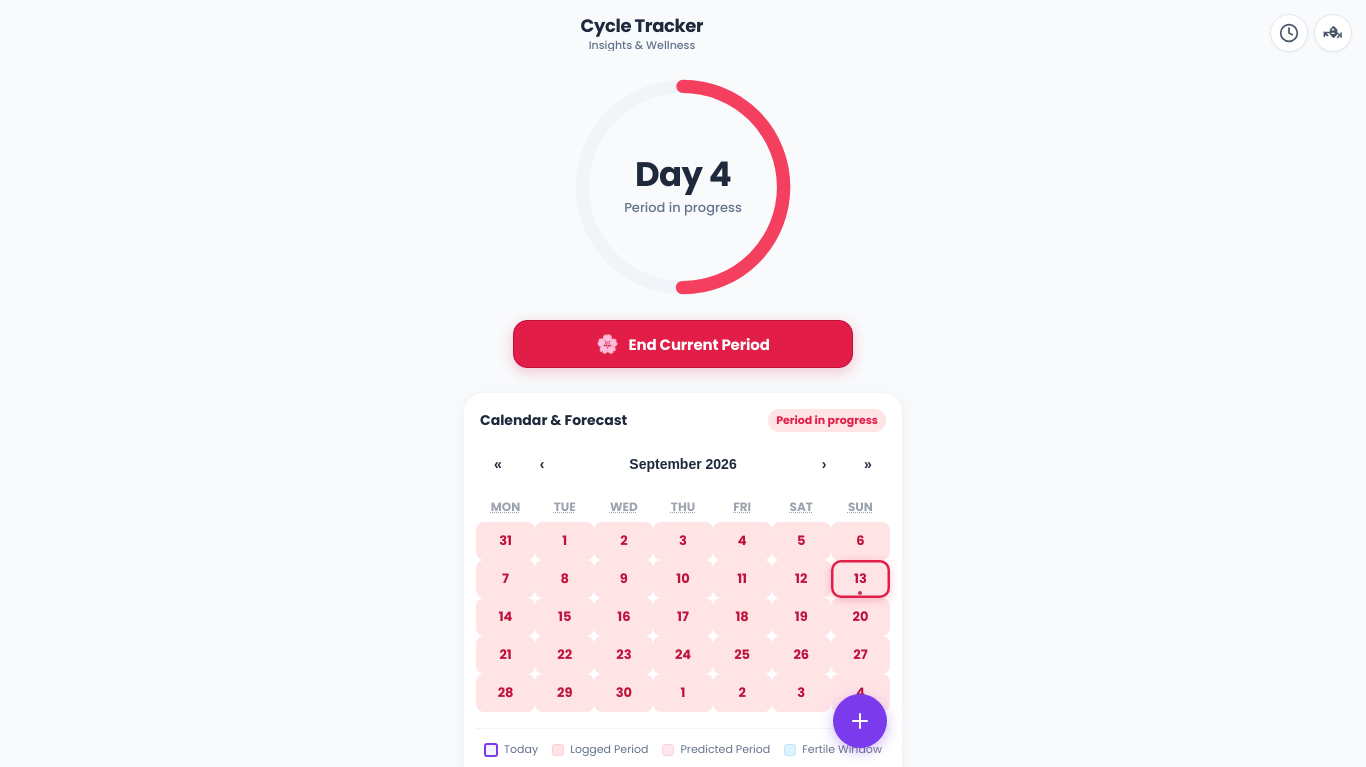
Test: PeriodTracker Permissions & End Button › renders "End Current Period" button for Ray (rheanamindo@gmail.com) when cycle is active
Expected: the button named "cycle settings" is shown, [1314,14,1352,52]
Expected: the button named "log period" is shown, [833,694,887,748]
Note: Clicking End Current Period opens the dedicated End Period modal
Click the button "🌸 End Current Period": click(683, 344) [513,320,853,368]
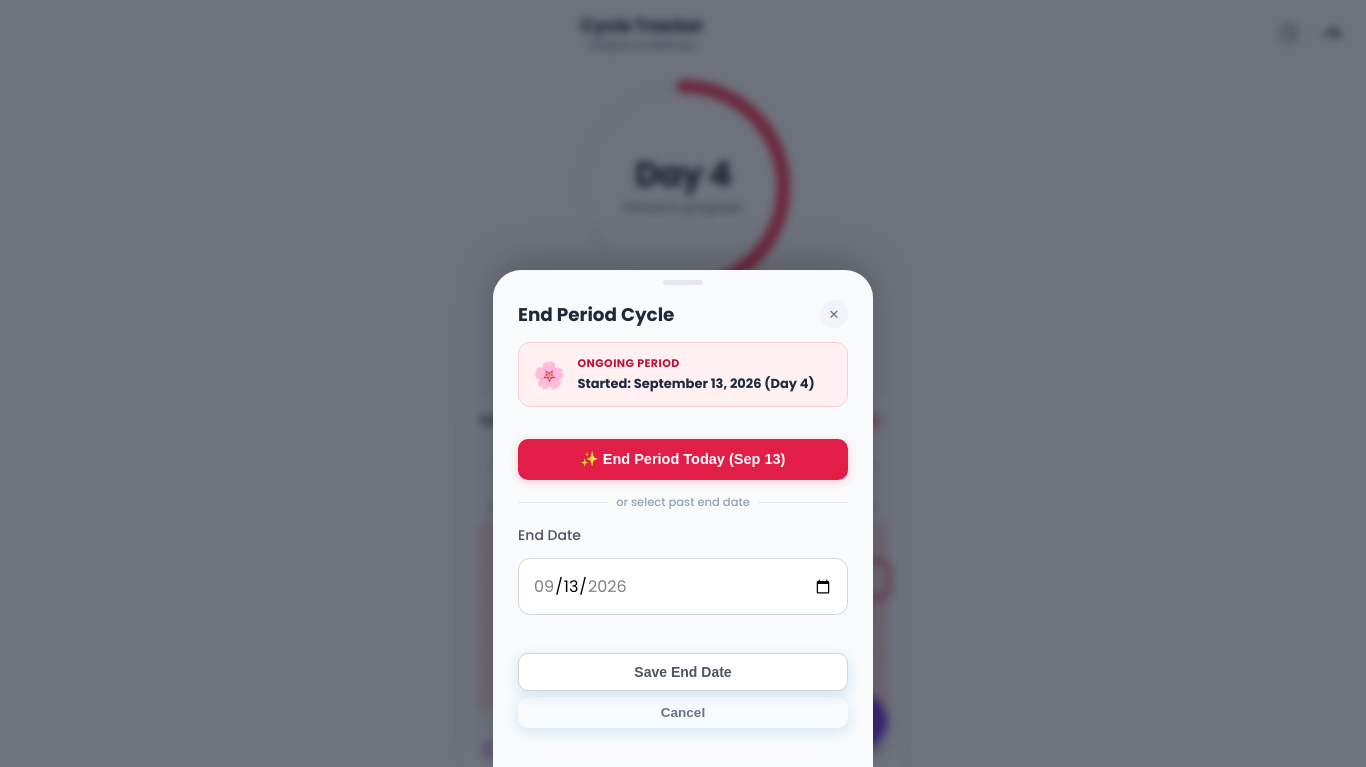
Result: the heading "End Period Cycle" is shown at [518,300,674,328]
Result: the button "✨ End Period Today (Sep 13)" is shown at [518,439,848,480]
Result: the button "Save End Date" is shown at [518,653,848,691]
